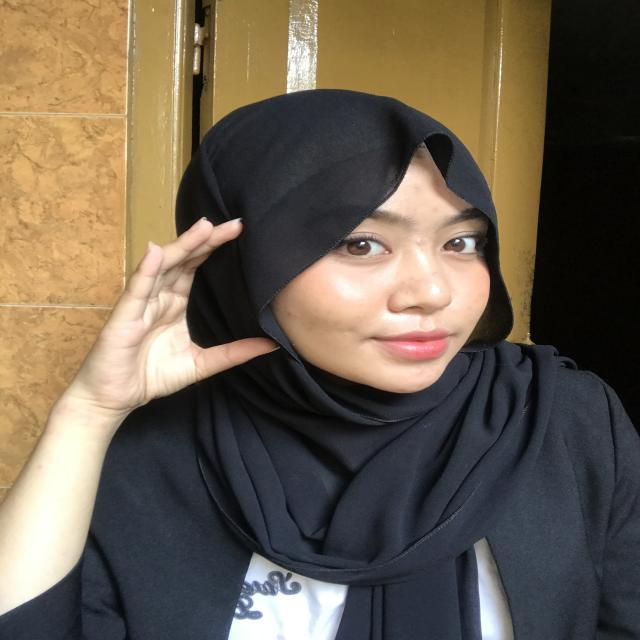mendengar: (47, 211, 267, 427)
